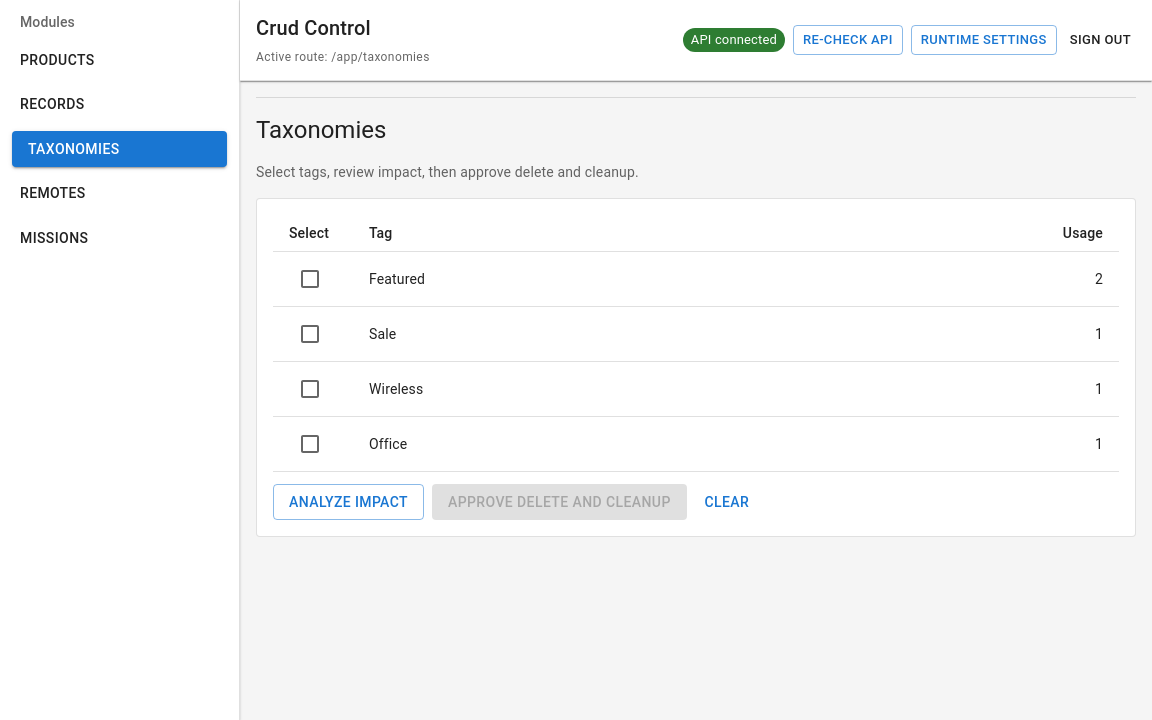
Test: Products and taxonomies safeguards › taxonomy impact and approved delete cleanup flow is executable
Expected: the heading "Taxonomies" is shown, [256, 116, 386, 144]
Click the checkbox named "Select tag Featured" at (310, 279), box [298, 267, 322, 291]
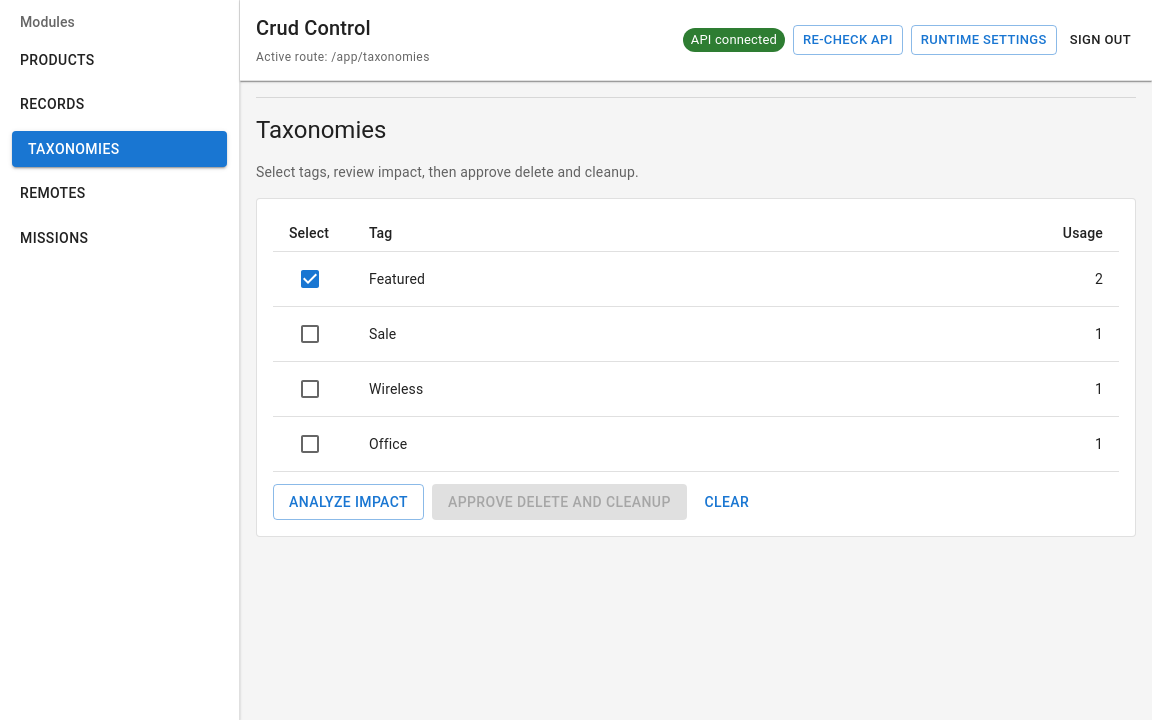
Click the button "Analyze impact" at (348, 502), box [273, 484, 424, 520]
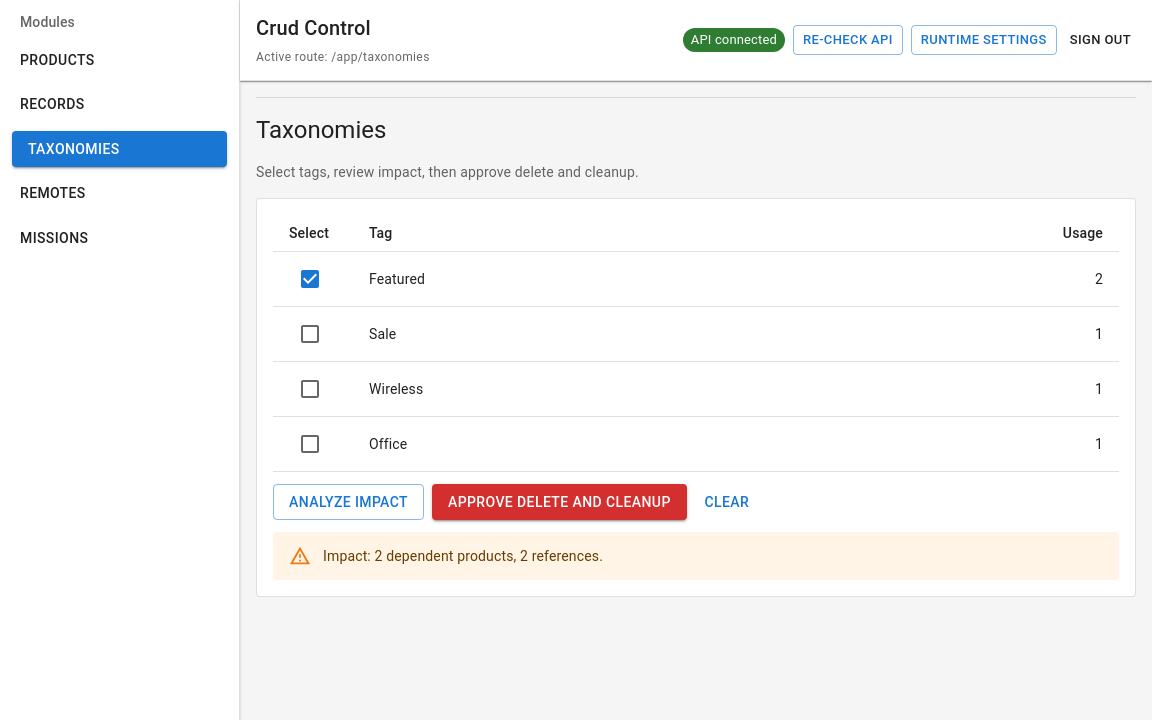
Expected: the text "Impact: 2 dependent products, 2 references." is shown, [323, 548, 603, 564]
Click the button "Approve delete and cleanup" at (559, 502), box [432, 484, 687, 520]
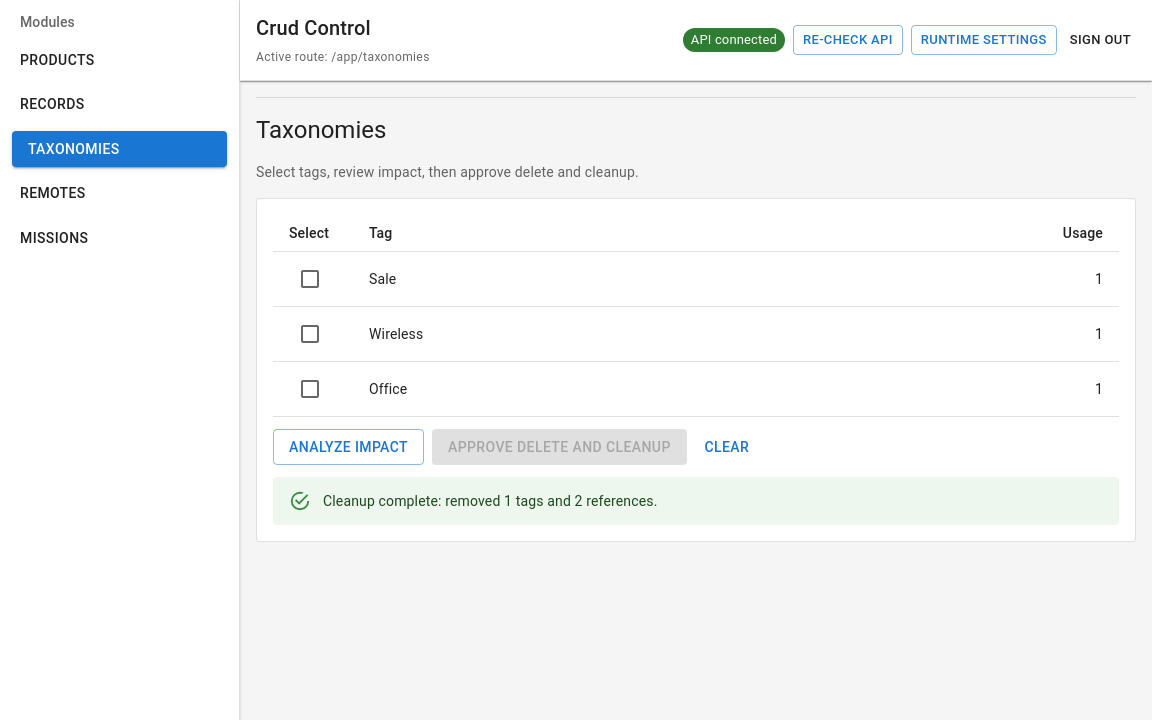
Expected: the text "Cleanup complete: removed 1 tags and 2 references." is shown, [323, 493, 658, 509]
